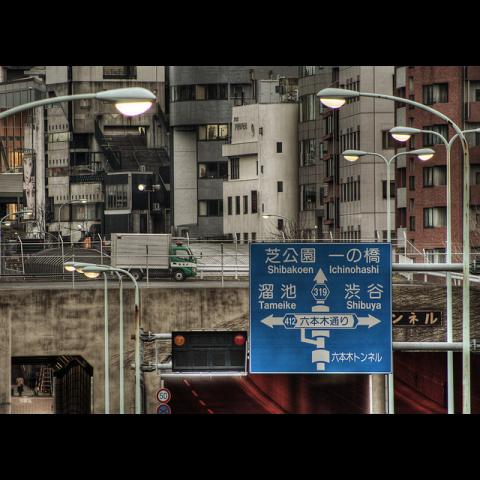truck: (110, 233, 197, 282)
